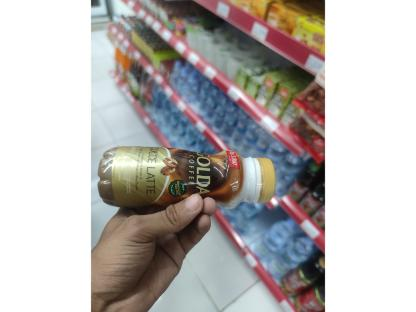Plastic Bottle: (92, 128, 286, 228)
